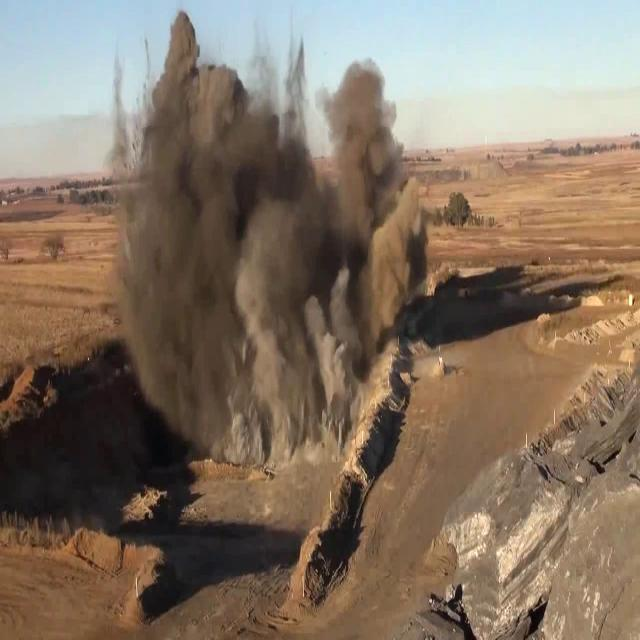explosion: (102, 25, 473, 505)
